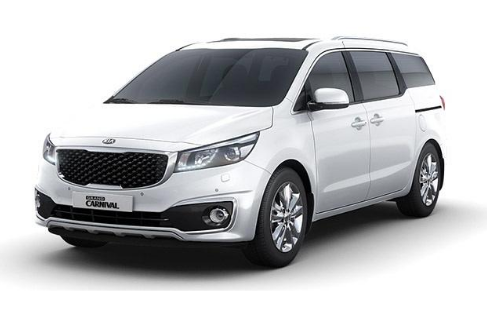car: (24, 34, 453, 275)
